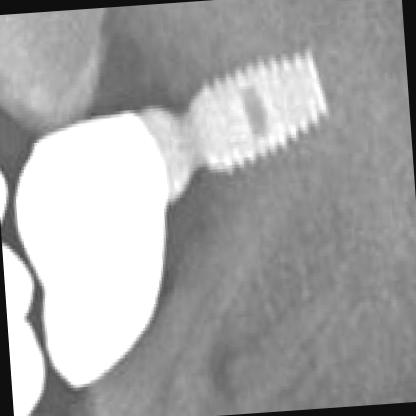Bicon: (165, 26, 359, 192)
